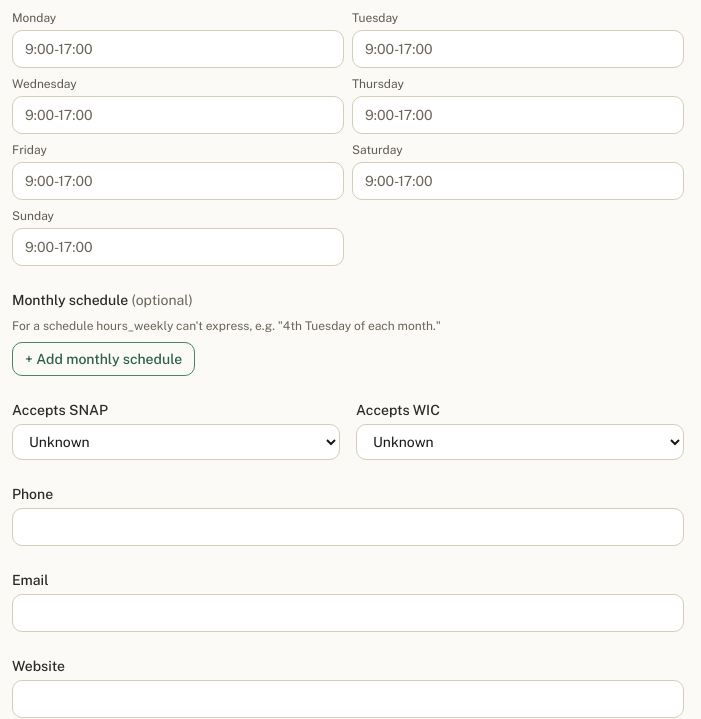
Test case: AddVenueForm — monthly schedule fieldset › 'Remove' deletes that row only
The width and height of the screenshot is (701, 719).
(page scrolled)
Click the button "+ Add monthly schedule" at (104, 359), box [12,342,195,376]
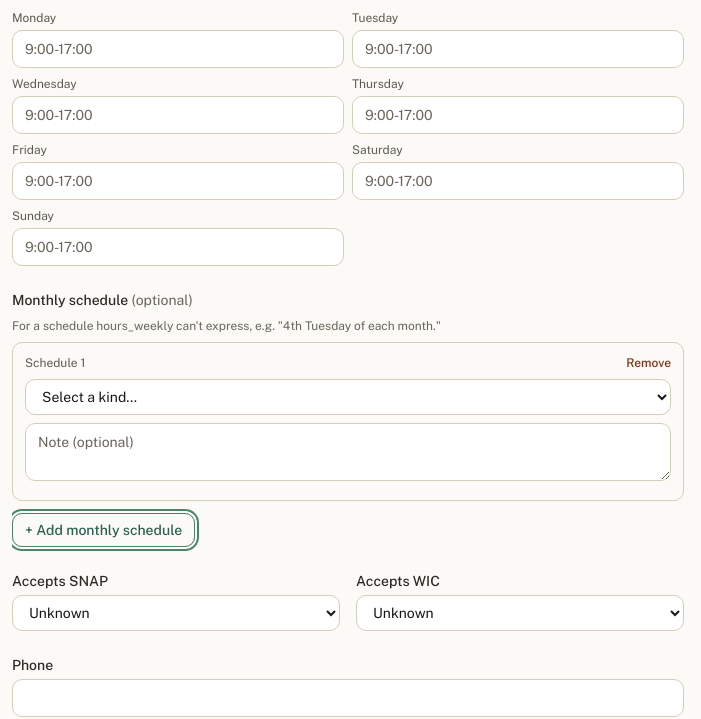
Click the button "+ Add monthly schedule" at (104, 530), box [12,513,195,547]
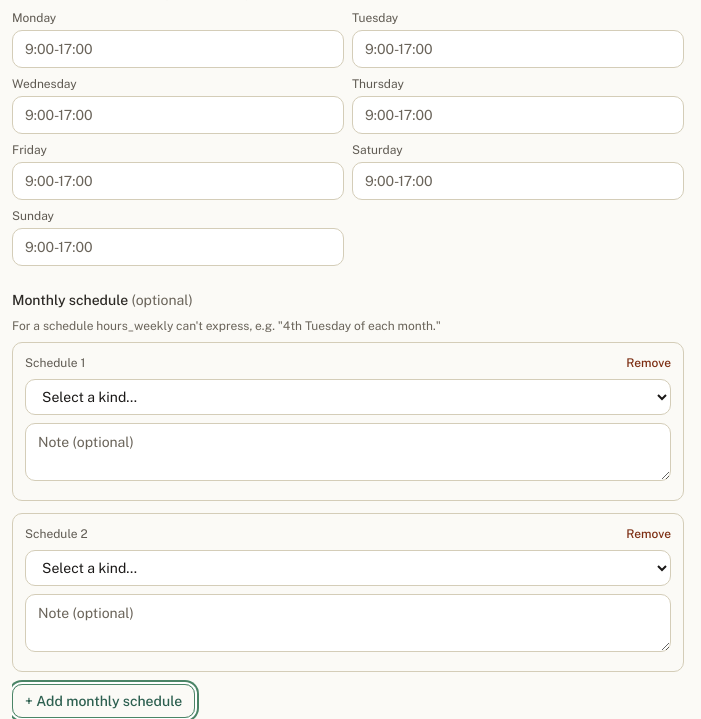
Result: the number of buttons "Remove" is 2
Click the 1st button "Remove" at (649, 363), box [626,355,671,371]
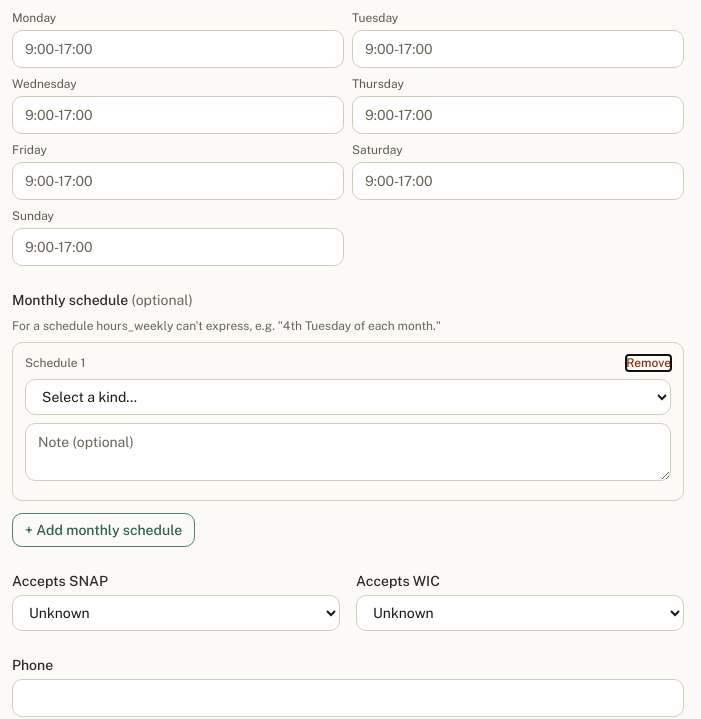
Result: the number of buttons "Remove" is 1 at [626,355,671,371]
